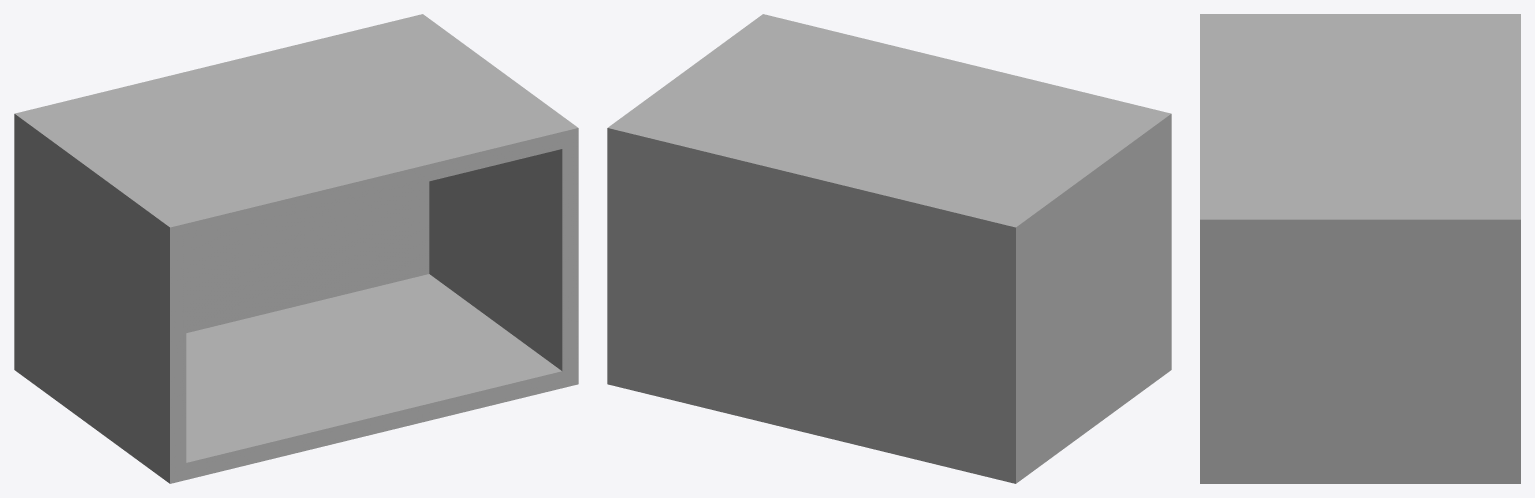
3 renders of one model, left to right at view 1: azimuth 30°, elevation 25°; view 2: azimuth 150°, elevation 25°; view 3: azimuth 270°, elevation 25°, orthographic. The views are drawn at different scales.
Parts seen in each view (by area): view 1: Box015; view 2: Box015; view 3: Box015.
Part boxes in pixels (bbox=[...]): Box015: bbox=[14, 14, 578, 483]; Box015: bbox=[607, 14, 1171, 483]; Box015: bbox=[1200, 14, 1520, 483].
Size of the model in its own units: 0.5 by 0.3 by 0.33.
1 material, 1 textured.
